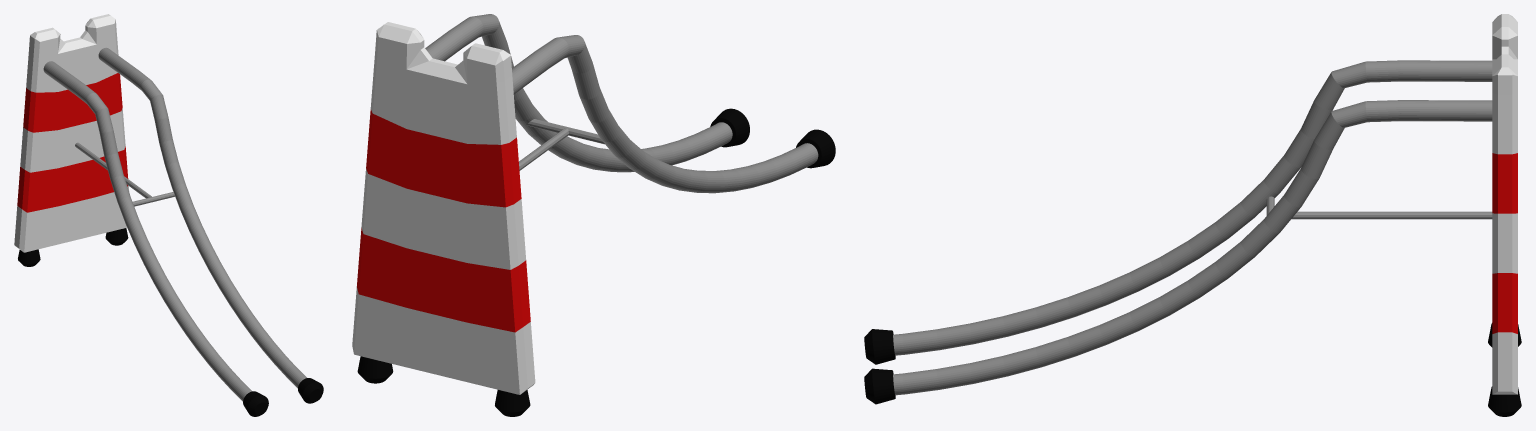
Rendered from Bowling Ramp.fbx.
3 views of the same model, side by side, from view 1: azimuth 30°, elevation 25°; view 2: azimuth 150°, elevation 25°; view 3: azimuth 270°, elevation 25° (orthographic). The views are drawn at different scales.
Visible parts, largest first — view 1: Cube, Rail2, Rail1, Cylinder.003, Cylinder.001, Cylinder.002, Cylinder.005, Cylinder.004; view 2: Cube, Rail2, Rail1, Cylinder.003, Cylinder.001, Cylinder.005, Cylinder.004, Cylinder, Cylinder.002; view 3: Rail1, Rail2, Cube, Cylinder.002, Cylinder.003, Cylinder.001, Cylinder.004.
Boxes of the visible parts, bbox=[...] form: Cube: bbox=[14, 14, 129, 252]; Rail2: bbox=[43, 61, 251, 401]; Rail1: bbox=[98, 47, 306, 388]; Cylinder.003: bbox=[298, 378, 323, 403]; Cylinder.001: bbox=[243, 391, 268, 416]; Cylinder.002: bbox=[75, 142, 152, 198]; Cylinder.005: bbox=[18, 249, 40, 266]; Cylinder.004: bbox=[105, 228, 128, 245]; Cube: bbox=[352, 22, 535, 394]; Rail2: bbox=[512, 35, 818, 193]; Rail1: bbox=[425, 14, 732, 172]; Cylinder.003: bbox=[710, 108, 749, 147]; Cylinder.001: bbox=[796, 129, 835, 168]; Cylinder.005: bbox=[495, 390, 530, 416]; Cylinder.004: bbox=[357, 356, 393, 383]; Cylinder: bbox=[526, 119, 604, 144]; Cylinder.002: bbox=[519, 128, 568, 170]; Rail1: bbox=[893, 100, 1492, 395]; Rail2: bbox=[893, 60, 1492, 355]; Cube: bbox=[1492, 14, 1517, 394]; Cylinder.002: bbox=[1291, 211, 1492, 219]; Cylinder.003: bbox=[864, 368, 895, 404]; Cylinder.001: bbox=[864, 329, 895, 364]; Cylinder.004: bbox=[1488, 386, 1521, 416].
Bounding box in the file's own units: 103 × 201 × 350.
